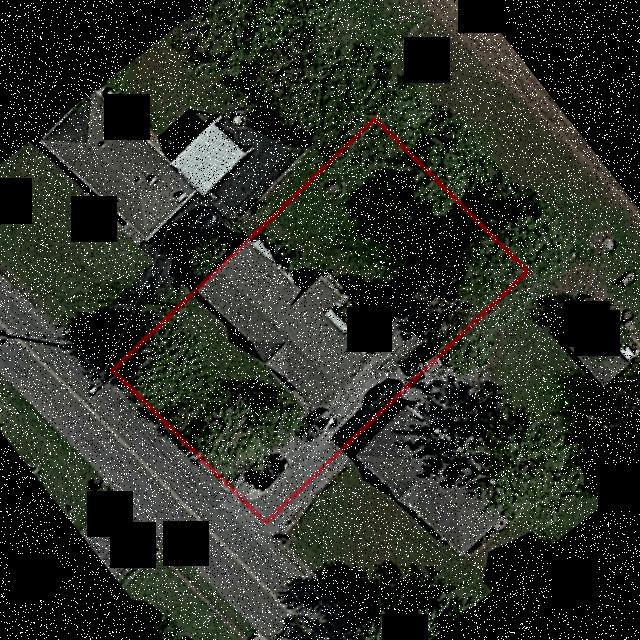Driveway: (234, 298, 434, 518)
House: (198, 240, 373, 411)
Other: (413, 257, 474, 318)
